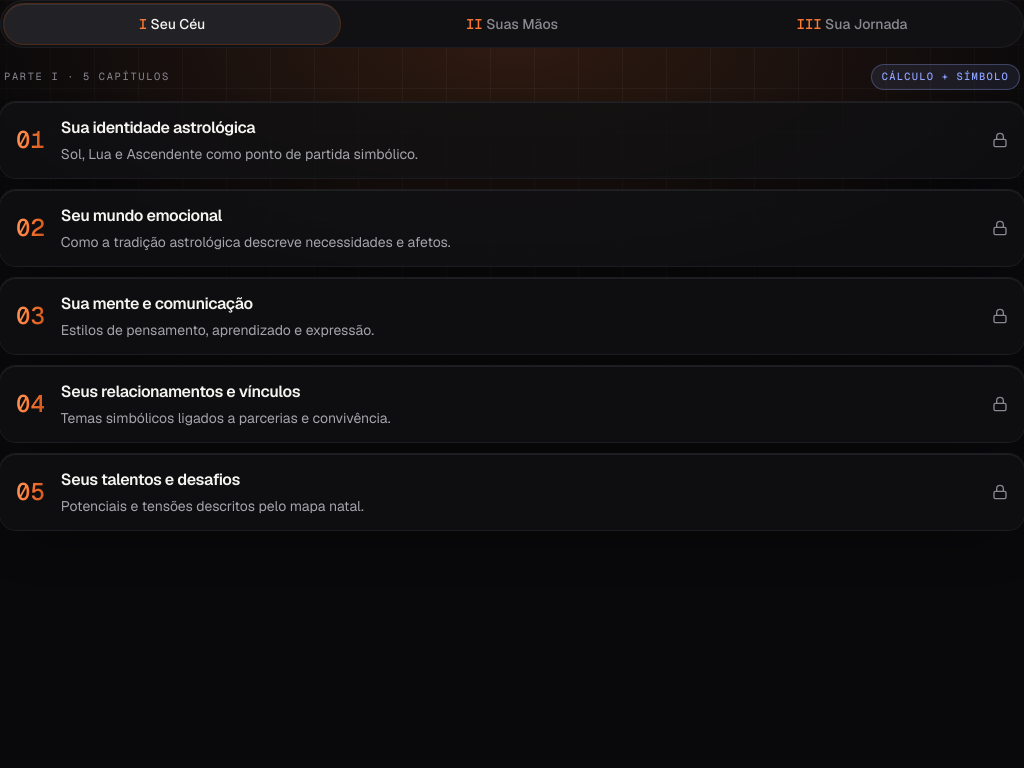
Test: ReportExplorer › alterna os capítulos exibidos ao trocar de aba
expect the heading "Sua identidade astrológica" is shown: met, box [61,117,255,138]
Click the tab "II Suas Mãos" at (512, 24), box [344,4,680,44]
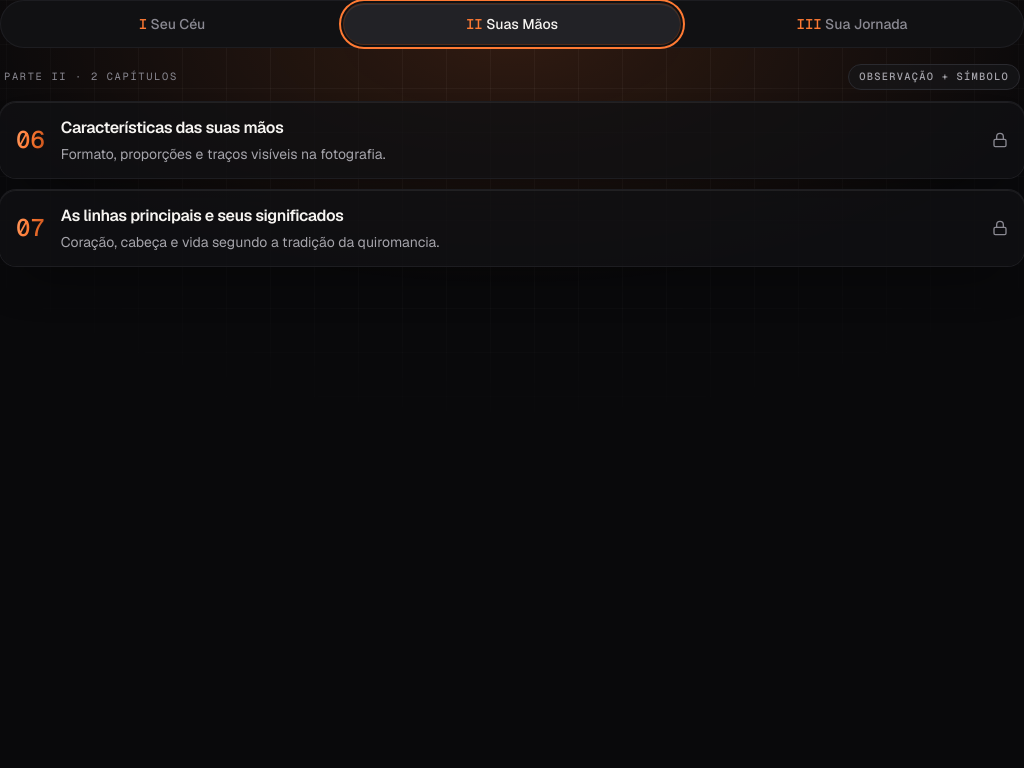
expect the heading "As linhas principais e seus significados" is shown: met, box [61,205,343,226]
expect the heading "Sua identidade astrológica" is gone: met
